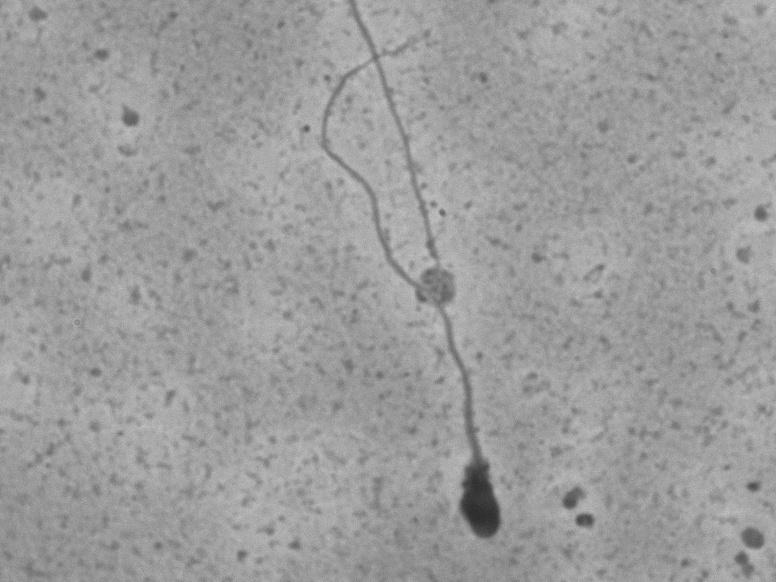Abnormal: (392, 23, 521, 544)
